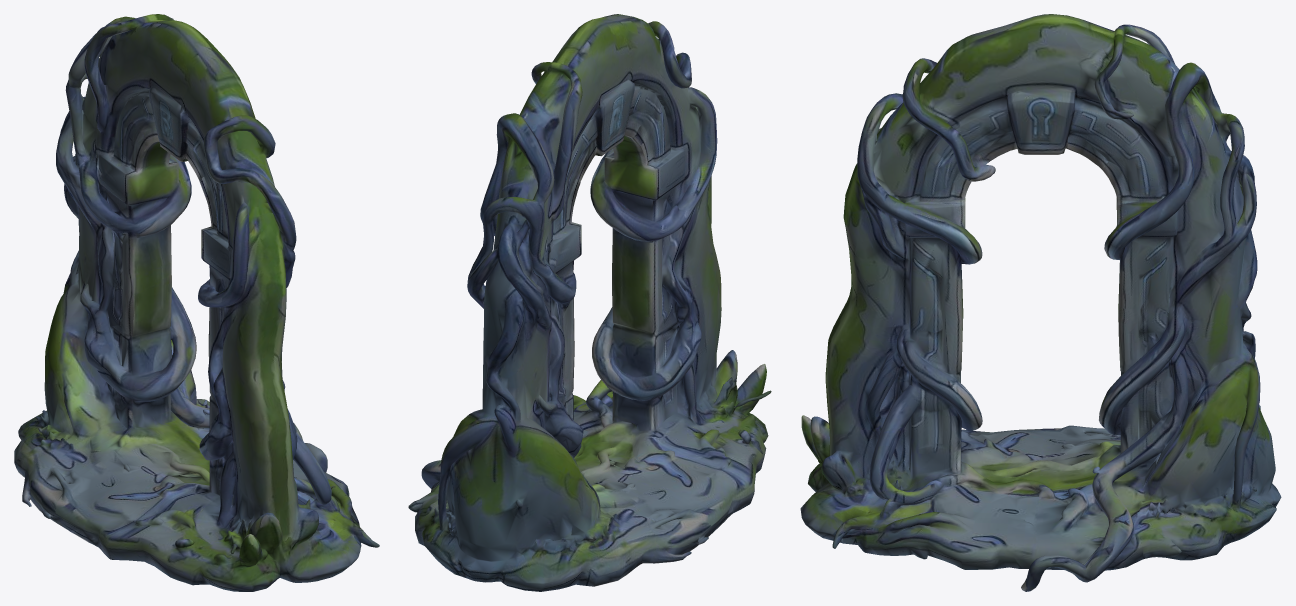
File: hollow_s.glb
3 views of the same model, side by side, from view 1: azimuth 30°, elevation 25°; view 2: azimuth 150°, elevation 25°; view 3: azimuth 270°, elevation 25° (orthographic). The views are drawn at different scales.
Parts seen in each view (by area): view 1: tripo_node_c7d94d75-652b-408a-aea3-bed266257647; view 2: tripo_node_c7d94d75-652b-408a-aea3-bed266257647; view 3: tripo_node_c7d94d75-652b-408a-aea3-bed266257647.
Boxes of the visible parts, x1=… form: tripo_node_c7d94d75-652b-408a-aea3-bed266257647: x1=14, y1=14, x2=379, y2=591; tripo_node_c7d94d75-652b-408a-aea3-bed266257647: x1=408, y1=14, x2=771, y2=591; tripo_node_c7d94d75-652b-408a-aea3-bed266257647: x1=800, y1=14, x2=1281, y2=591.
Size of the model in its own units: 0.555 by 0.9994 by 0.8307.
Materials: 1 (1 with a texture image).
